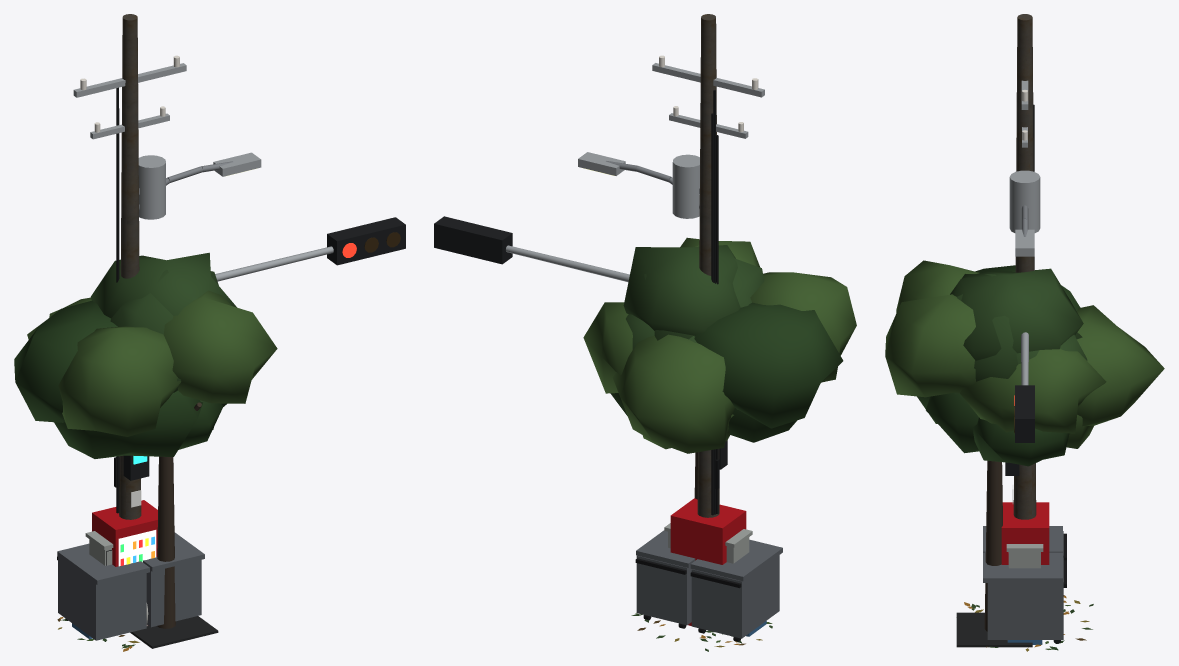
The model's file is props.glb.
3 renders of one model, left to right at view 1: azimuth 30°, elevation 25°; view 2: azimuth 150°, elevation 25°; view 3: azimuth 270°, elevation 25°, orthographic.
Visible parts, largest first — view 1: tree, dumpster, upole, signal, vending, lamp, cabinet; view 2: tree, dumpster, upole, signal, vending, lamp, cabinet; view 3: tree, dumpster, upole, vending, signal, cabinet, lamp.
Boxes of the visible parts, left/top/right/bottom form: tree: left=14, top=252, right=277, bottom=648; dumpster: left=57, top=532, right=204, bottom=640; upole: left=73, top=14, right=186, bottom=519; signal: left=123, top=217, right=405, bottom=480; vending: left=92, top=500, right=157, bottom=566; lamp: left=139, top=152, right=261, bottom=209; cabinet: left=85, top=531, right=113, bottom=565; tree: left=583, top=237, right=856, bottom=499; dumpster: left=635, top=530, right=782, bottom=641; upole: left=652, top=14, right=764, bottom=517; signal: left=434, top=216, right=727, bottom=469; vending: left=670, top=498, right=746, bottom=625; lamp: left=578, top=152, right=699, bottom=208; cabinet: left=664, top=523, right=752, bottom=563; tree: left=885, top=260, right=1164, bottom=647; dumpster: left=983, top=526, right=1066, bottom=643; upole: left=1009, top=14, right=1040, bottom=519; vending: left=1001, top=502, right=1049, bottom=564; signal: left=1005, top=332, right=1034, bottom=475; cabinet: left=1006, top=544, right=1043, bottom=568; lamp: left=1015, top=205, right=1034, bottom=256.
Size of the model in its own units: 7 by 10.53 by 4.41.
Materials: 45 (1 with a texture image).
